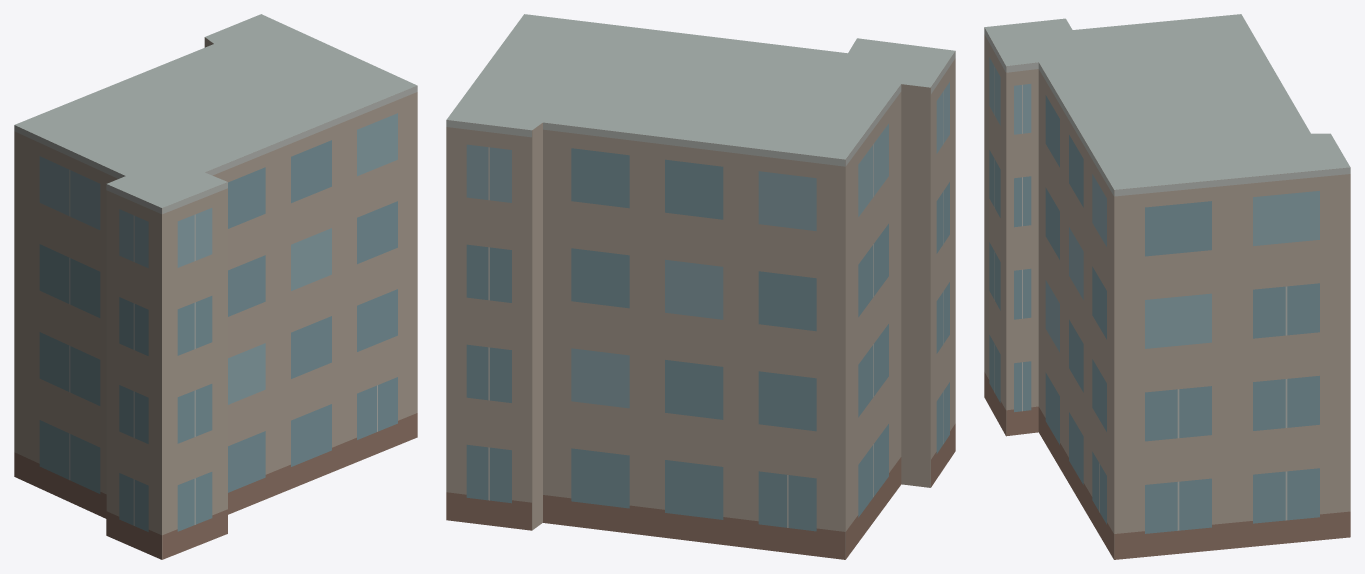
The model's file is survey-upis-32957926.glb.
3 renders of one model, left to right at view 1: azimuth 30°, elevation 25°; view 2: azimuth 150°, elevation 25°; view 3: azimuth 270°, elevation 25°, orthographic. The views are drawn at different scales.
Visible parts, largest first — view 1: survey-upis-32957926.tmp; view 2: survey-upis-32957926.tmp; view 3: survey-upis-32957926.tmp.
Part boxes in pixels (left/top/right/bottom): survey-upis-32957926.tmp: left=14, top=14, right=417, bottom=559; survey-upis-32957926.tmp: left=446, top=14, right=955, bottom=559; survey-upis-32957926.tmp: left=984, top=14, right=1350, bottom=559.
Bounding box in the file's own units: 13.98 × 13.7 × 12.3.
